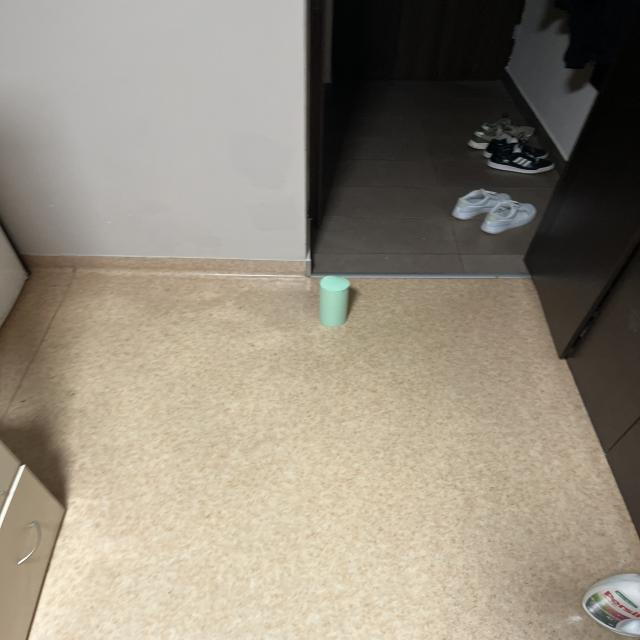meta: (319, 287, 349, 326)
